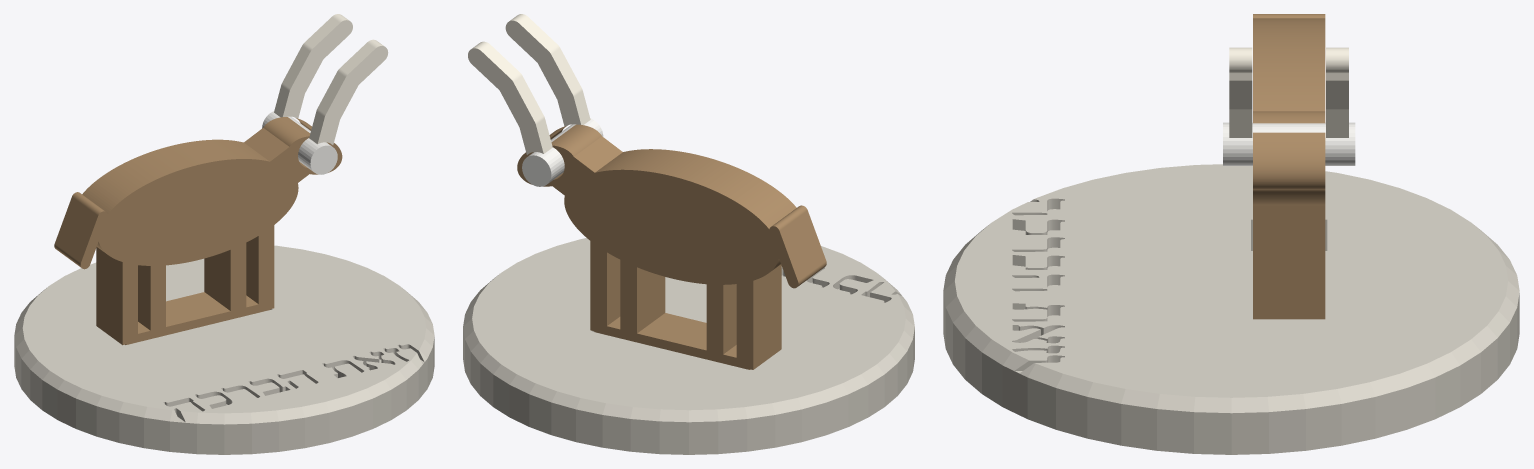
Rendered from vezot-haberachah.glb.
The picture shows the model from 3 angles, left to right: view 1: azimuth 30°, elevation 25°; view 2: azimuth 150°, elevation 25°; view 3: azimuth 270°, elevation 25°; orthographic projection. The views are drawn at different scales.
Visible parts, largest first — view 1: stage, ox, horn-1, horn-2, pin; view 2: stage, ox, horn-2, horn-1, pin; view 3: stage, ox, pin, horn-1, horn-2.
Boxes of the visible parts, x1,y1,x2,y2 form: stage: [14, 245, 434, 454]; ox: [54, 117, 342, 345]; horn-1: [309, 39, 388, 144]; horn-2: [274, 14, 352, 118]; pin: [262, 111, 337, 174]; stage: [463, 238, 914, 454]; ox: [517, 124, 826, 369]; horn-2: [468, 41, 552, 154]; horn-1: [505, 14, 590, 126]; pin: [522, 118, 603, 186]; stage: [943, 164, 1519, 454]; ox: [1253, 14, 1325, 319]; pin: [1223, 122, 1355, 165]; horn-1: [1229, 47, 1252, 137]; horn-2: [1326, 47, 1348, 137].
Size of the model in its own units: 40 by 29.7 by 40.
